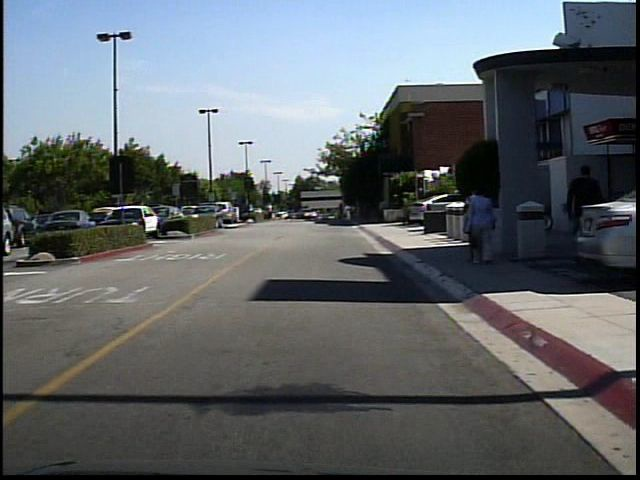person: (561, 158, 611, 280), (468, 183, 499, 267), (467, 189, 489, 265), (343, 202, 356, 227), (268, 200, 278, 223)
